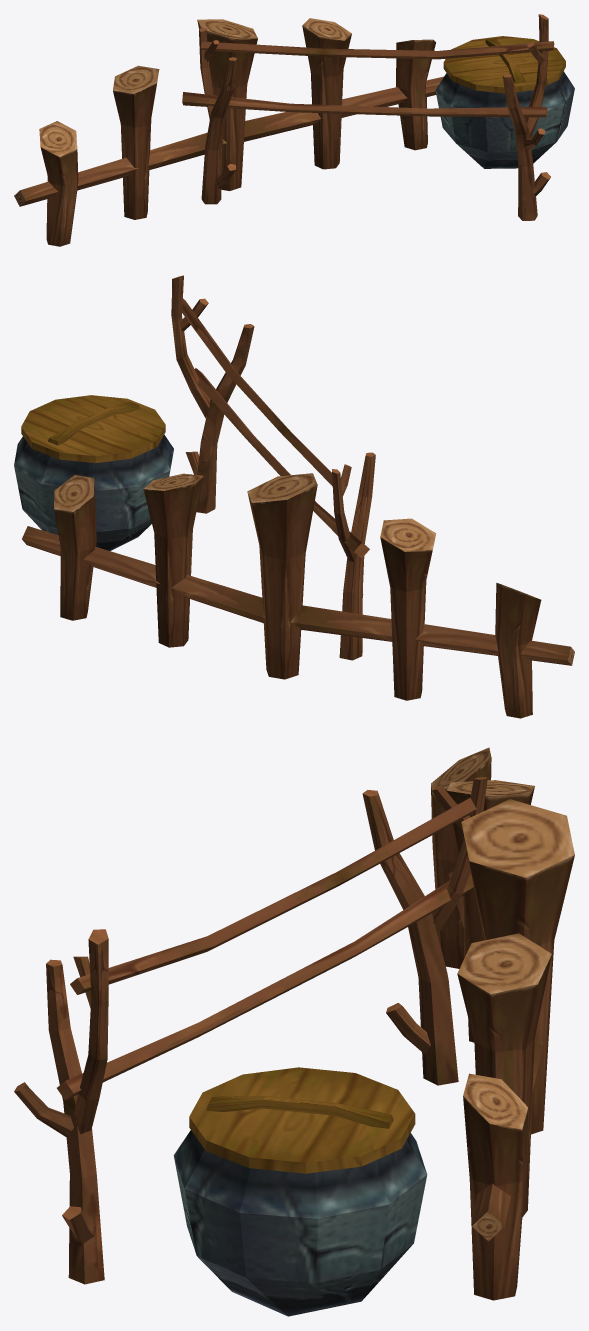
File: cunlou_xiaowujian06.FBX
3 views of the same model, one above another, from view 1: azimuth 30°, elevation 25°; view 2: azimuth 150°, elevation 25°; view 3: azimuth 270°, elevation 25° (orthographic). The views are drawn at different scales.
Parts seen in each view (by area): view 1: cunlou_xiaowujian06; view 2: cunlou_xiaowujian06; view 3: cunlou_xiaowujian06.
Boxes of the visible parts, x1,y1,x2,y2 form: cunlou_xiaowujian06: (14,14,574,246); cunlou_xiaowujian06: (14,275,574,718); cunlou_xiaowujian06: (14,747,574,1316).
Size of the model in its own units: 362 by 139 by 188.
